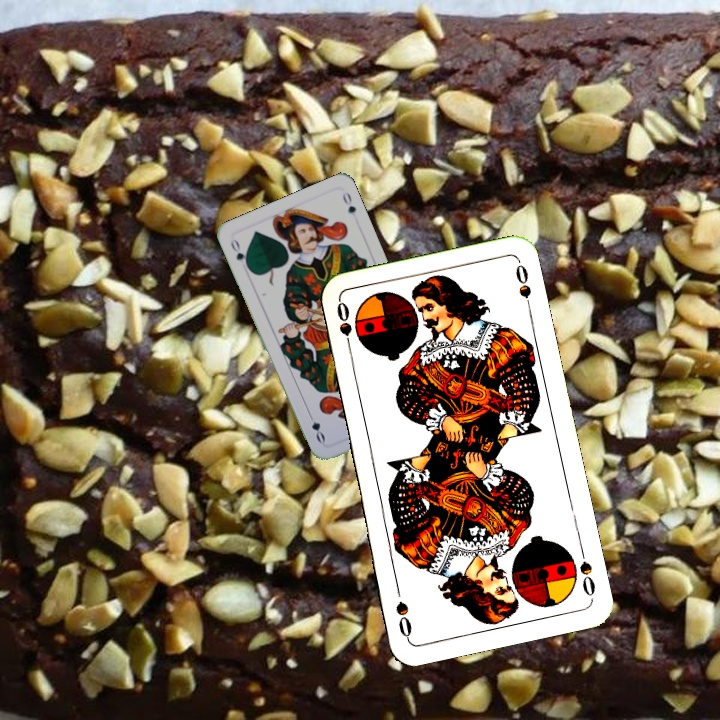GO: (226, 235, 252, 272)
SO: (332, 298, 355, 357), (575, 542, 598, 601)
